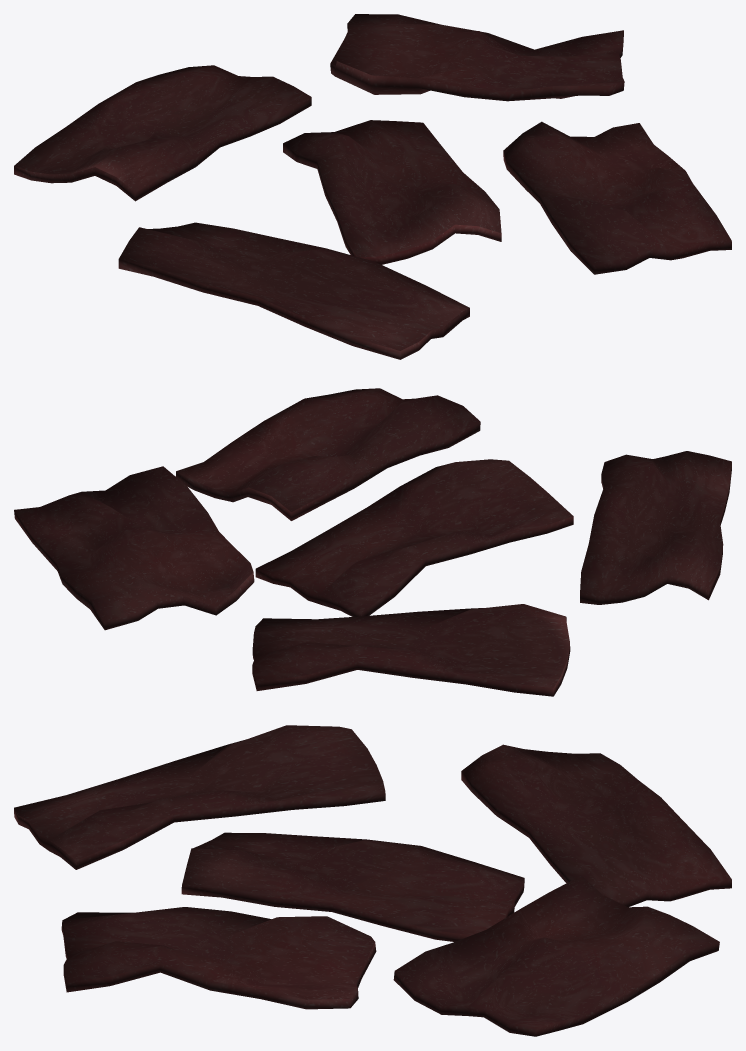
Rendered from yakiniku_02_t.glb.
The picture shows the model from 3 angles, top to bottom: view 1: azimuth 30°, elevation 25°; view 2: azimuth 150°, elevation 25°; view 3: azimuth 270°, elevation 25°; orthographic projection. The views are drawn at different scales.
Visible parts, largest first — view 1: yakiniku.002; view 2: yakiniku.002; view 3: yakiniku.002.
Boxes of the visible parts, x1,y1,x2,y2 form: yakiniku.002: (14,14,731,359); yakiniku.002: (14,388,731,696); yakiniku.002: (14,725,731,1036).
Bounding box in the file's own units: 0.1823 × 0.0146 × 0.1811.
1 material, 1 textured.
